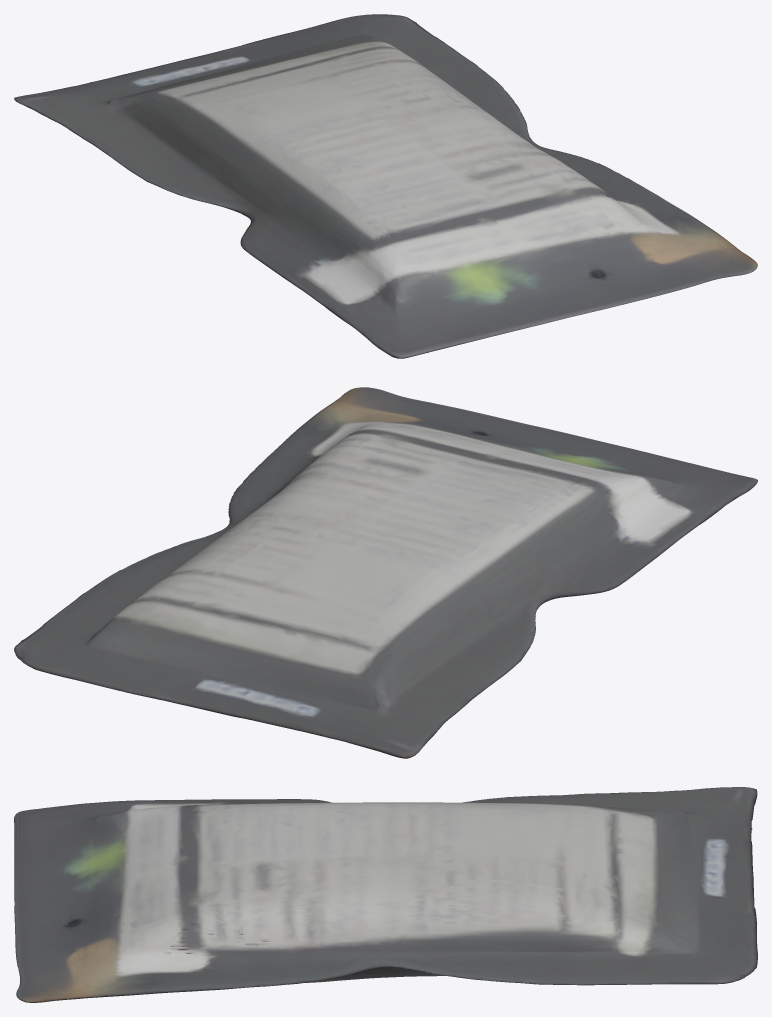
3 views of the same model, one above another, from view 1: azimuth 30°, elevation 25°; view 2: azimuth 150°, elevation 25°; view 3: azimuth 270°, elevation 25° (orthographic). The views are drawn at different scales.
Parts seen in each view (by area): view 1: world; view 2: world; view 3: world.
Part boxes in pixels (x1=…): world: x1=14, y1=14, x2=757, y2=358; world: x1=14, y1=387, x2=757, y2=758; world: x1=14, y1=787, x2=757, y2=1002.
Size of the model in its own units: 0.1203 by 0.0246 by 0.1846.
